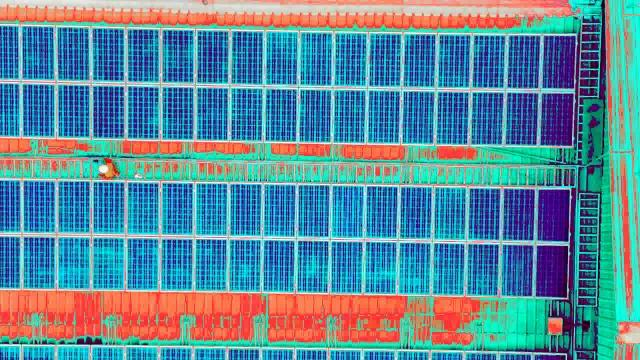clean: (541, 33, 579, 93), (541, 89, 575, 150), (535, 240, 569, 298), (536, 188, 571, 243)
semi: (439, 88, 479, 146), (404, 87, 444, 145), (366, 84, 406, 142), (331, 85, 371, 143), (298, 85, 338, 143), (263, 83, 303, 141), (230, 85, 270, 143), (199, 86, 239, 144), (154, 81, 194, 139), (124, 79, 164, 137), (88, 84, 128, 142), (54, 80, 94, 138), (16, 82, 56, 140), (17, 180, 57, 238), (53, 175, 93, 233), (87, 177, 127, 235), (121, 180, 161, 238), (155, 178, 195, 236), (194, 181, 234, 239), (223, 177, 263, 235), (262, 181, 302, 239), (293, 183, 333, 241), (327, 178, 367, 236), (361, 182, 401, 240), (392, 185, 432, 243), (428, 186, 468, 244), (459, 184, 499, 242), (496, 185, 536, 243), (496, 239, 536, 297), (459, 240, 499, 298), (429, 238, 469, 296), (397, 242, 437, 300), (360, 236, 400, 294), (323, 236, 363, 294), (294, 234, 334, 292), (258, 237, 298, 295), (226, 235, 266, 293), (195, 235, 235, 293), (160, 234, 200, 292), (123, 235, 163, 293), (87, 230, 127, 288), (53, 231, 93, 289), (15, 233, 55, 291), (17, 25, 57, 82), (51, 27, 91, 84), (84, 29, 124, 86), (119, 27, 159, 84), (158, 27, 198, 84), (194, 29, 234, 86), (225, 31, 265, 88), (264, 32, 304, 89), (296, 28, 336, 85), (331, 34, 371, 91), (363, 32, 403, 89), (400, 30, 440, 87), (431, 33, 471, 90), (468, 31, 508, 88), (499, 32, 539, 89), (500, 90, 540, 147), (468, 89, 508, 146)
